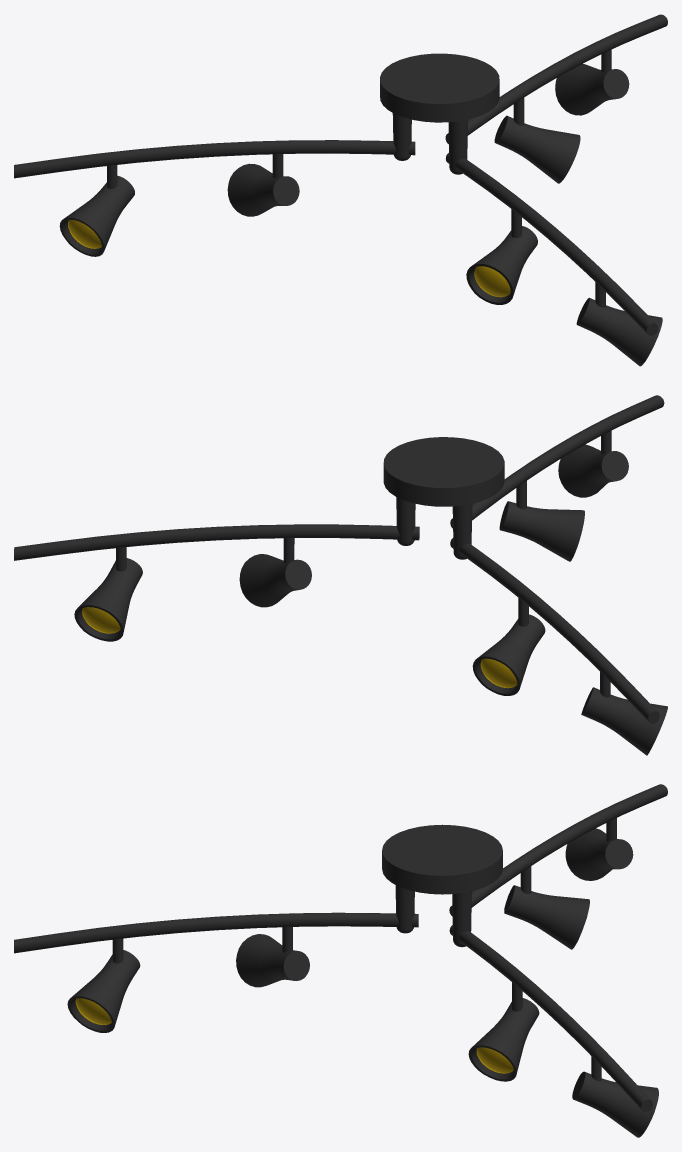
The model's file is Spot4_6.fbx.
The picture shows the model from 3 angles, top to bottom: view 1: azimuth 30°, elevation 25°; view 2: azimuth 150°, elevation 25°; view 3: azimuth 270°, elevation 25°; orthographic projection.
Parts seen in each view (by area): view 1: pCylinder1391, pCylinder1393, pCylinder1394, pCylinder1398, pCylinder1405, pCylinder1392, pCylinder1401, pCylinder1407, pCylinder1400, pCylinder1397, pCylinder1395, pSphere193 (+1 smaller); view 2: pCylinder1391, pCylinder1392, pCylinder1393, pCylinder1407, pCylinder1397, pCylinder1401, pCylinder1394, pCylinder1398, pCylinder1405, pCylinder1400, pCylinder1395, pSphere195 (+1 smaller); view 3: pCylinder1391, pCylinder1394, pCylinder1392, pCylinder1398, pCylinder1400, pCylinder1407, pCylinder1393, pCylinder1401, pCylinder1397, pCylinder1405, pCylinder1395, pSphere191 (+1 smaller).
Boxes of the visible parts, box(x1,y1,x2,y2) form: pCylinder1391: box(380, 53, 499, 122); pCylinder1393: box(14, 140, 415, 178); pCylinder1394: box(445, 153, 658, 335); pCylinder1398: box(494, 115, 580, 183); pCylinder1405: box(59, 175, 134, 256); pCylinder1392: box(445, 14, 667, 144); pCylinder1401: box(466, 226, 537, 304); pCylinder1407: box(227, 163, 299, 216); pCylinder1400: box(576, 297, 662, 366); pCylinder1397: box(555, 63, 629, 115); pCylinder1395: box(392, 113, 467, 174); pSphere193: box(474, 266, 510, 297); pCylinder1391: box(383, 437, 504, 506); pCylinder1392: box(14, 524, 419, 560); pCylinder1393: box(450, 538, 659, 723); pCylinder1407: box(472, 614, 545, 695); pCylinder1397: box(74, 558, 142, 641); pCylinder1401: box(499, 501, 584, 561); pCylinder1394: box(450, 395, 664, 528); pCylinder1398: box(239, 554, 311, 607); pCylinder1405: box(581, 687, 667, 755); pCylinder1400: box(558, 444, 628, 497); pCylinder1395: box(396, 497, 472, 559); pSphere195: box(480, 658, 517, 688); pCylinder1391: box(382, 824, 502, 894); pCylinder1394: box(14, 912, 418, 953); pCylinder1392: box(449, 925, 652, 1112); pCylinder1398: box(468, 998, 539, 1081); pCylinder1400: box(67, 950, 140, 1032); pCylinder1407: box(504, 885, 589, 949); pCylinder1393: box(449, 784, 667, 916); pCylinder1401: box(236, 934, 309, 987); pCylinder1397: box(572, 1071, 658, 1137); pCylinder1405: box(565, 828, 633, 880); pCylinder1395: box(395, 885, 471, 947); pSphere191: box(476, 1047, 513, 1073).
Size of the model in its own units: 66.46 by 16.35 by 57.76.
